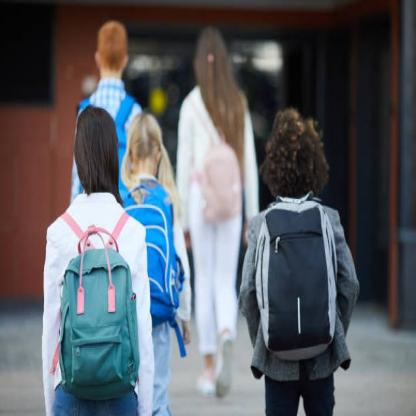person: (164, 19, 263, 392), (241, 106, 352, 416), (39, 107, 145, 416), (116, 92, 185, 406), (72, 14, 149, 144)
